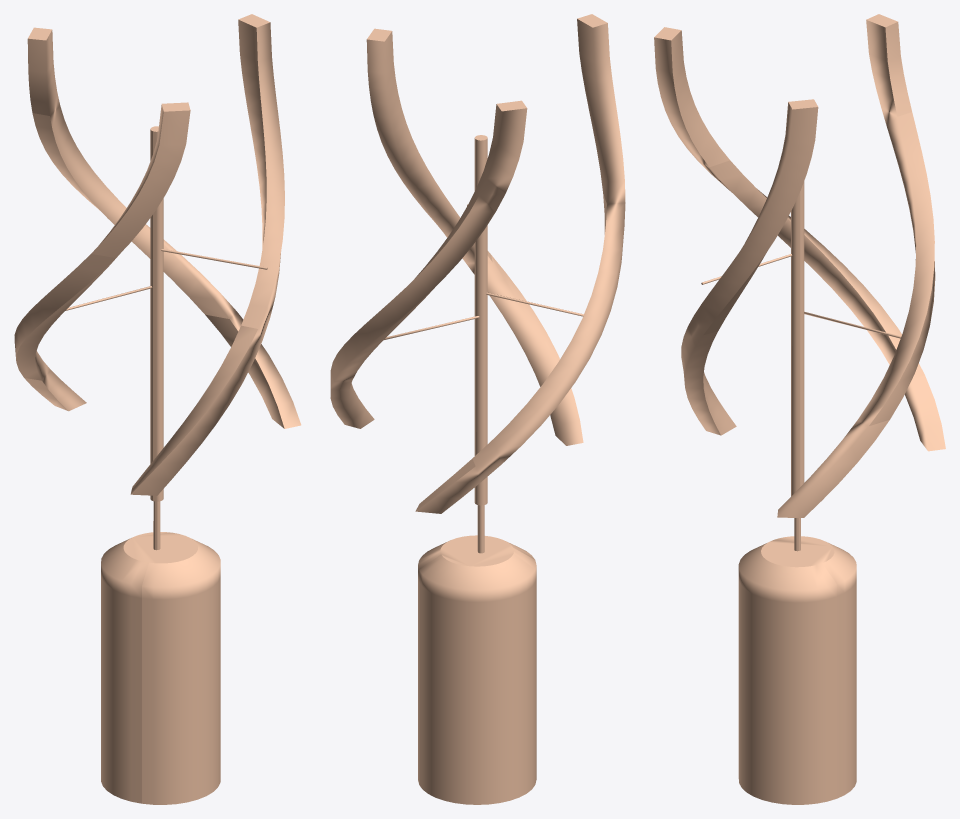
The model's file is Windmill_01_mesh.fbx.
3 views of the same model, side by side, from view 1: azimuth 30°, elevation 25°; view 2: azimuth 150°, elevation 25°; view 3: azimuth 270°, elevation 25° (orthographic).
Parts seen in each view (by area): view 1: Cylinder.030; view 2: Cylinder.030; view 3: Cylinder.030.
Boxes of the visible parts, x1,y1,x2,y2 form: Cylinder.030: (14,14,301,804); Cylinder.030: (330,14,625,804); Cylinder.030: (654,14,945,804).
Bounding box in the file's own units: 0.0922 × 0.2499 × 0.0916.
